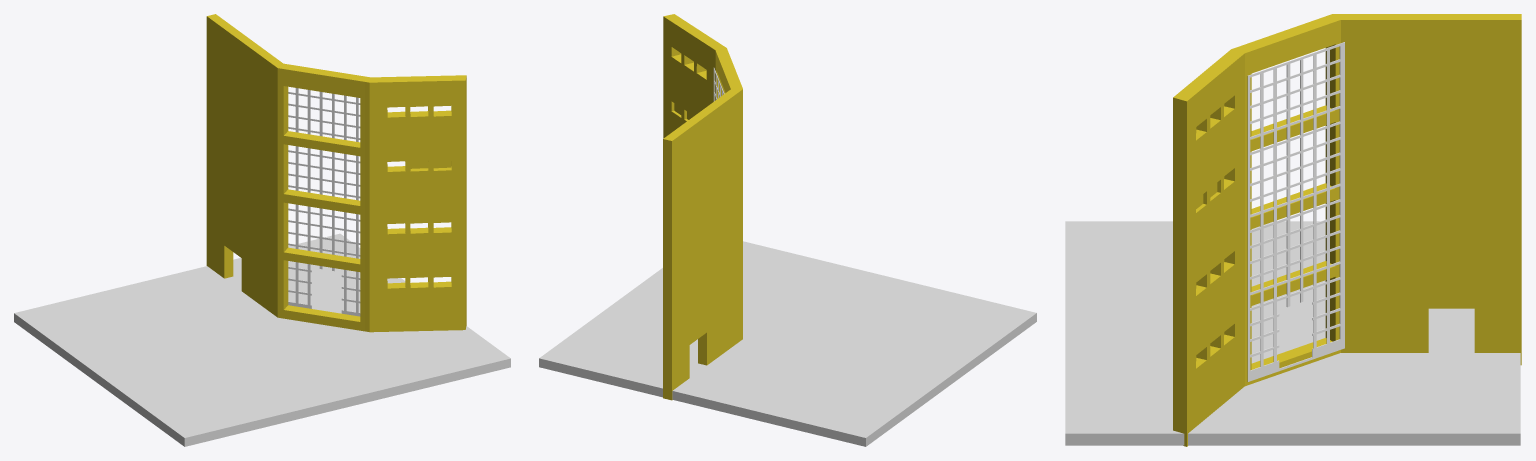
File: edificio.glb
3 views of the same model, side by side, from view 1: azimuth 30°, elevation 25°; view 2: azimuth 150°, elevation 25°; view 3: azimuth 270°, elevation 25° (orthographic). The views are drawn at different scales.
Visible parts, largest first — view 1: Cubo.001, Cubo; view 2: Cubo, Cubo.001; view 3: Cubo.001, Cubo.
Boxes of the visible parts, x1,y1,x2,y2 form: Cubo.001: [206, 14, 466, 332]; Cubo: [14, 233, 510, 446]; Cubo: [539, 241, 1036, 446]; Cubo.001: [663, 14, 742, 400]; Cubo.001: [1173, 14, 1521, 446]; Cubo: [1065, 221, 1520, 445].
Bounding box in the file's own units: 44.09 × 33.31 × 39.89.
